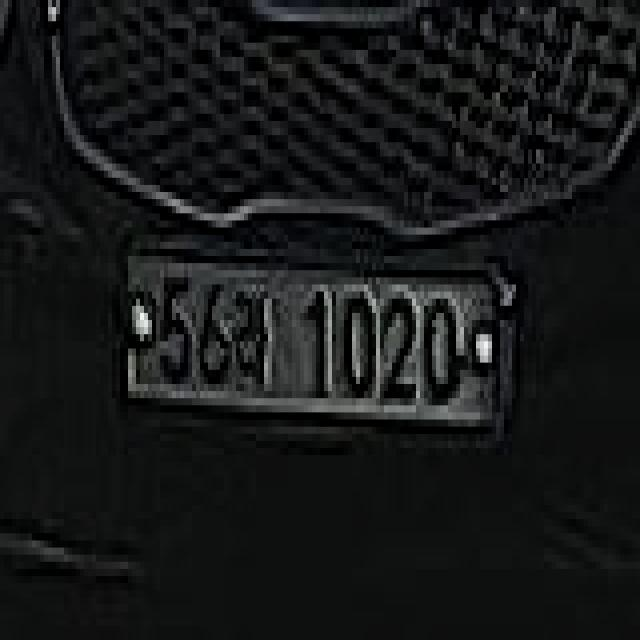illegal_plate: (117, 240, 518, 445)
